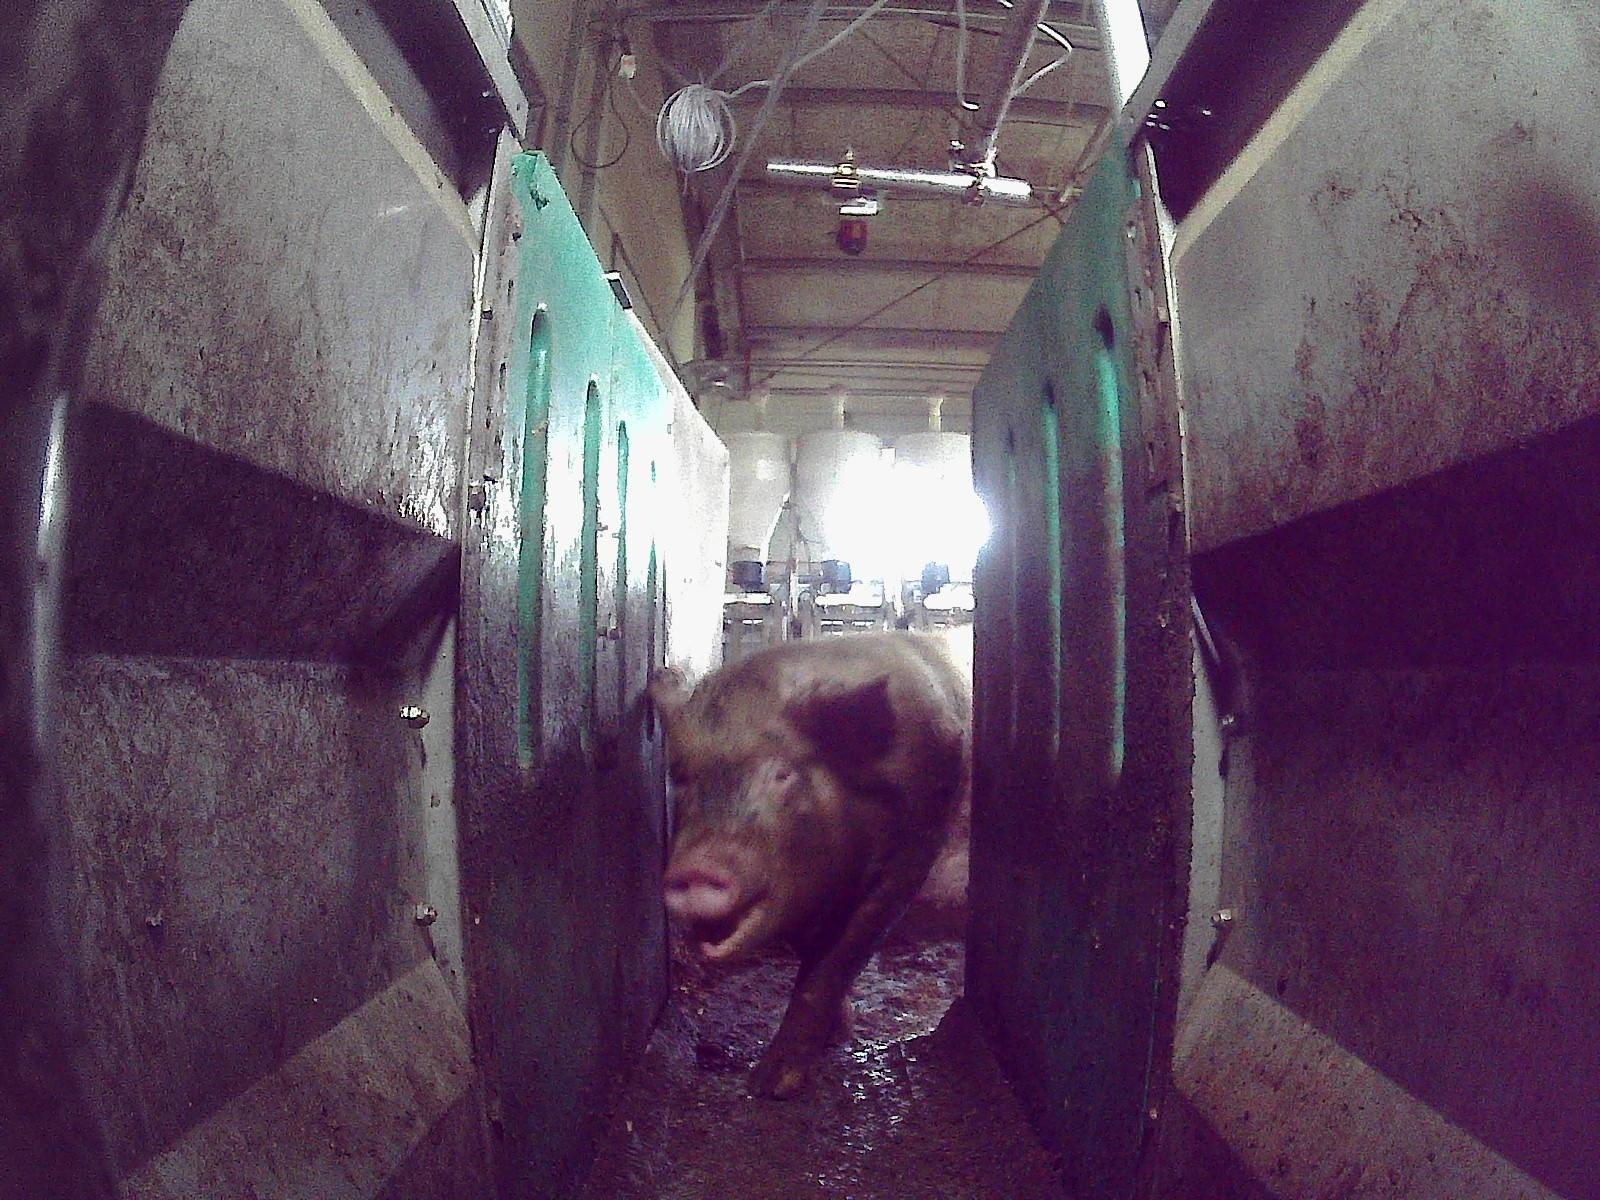Face: (658, 681, 848, 960)
